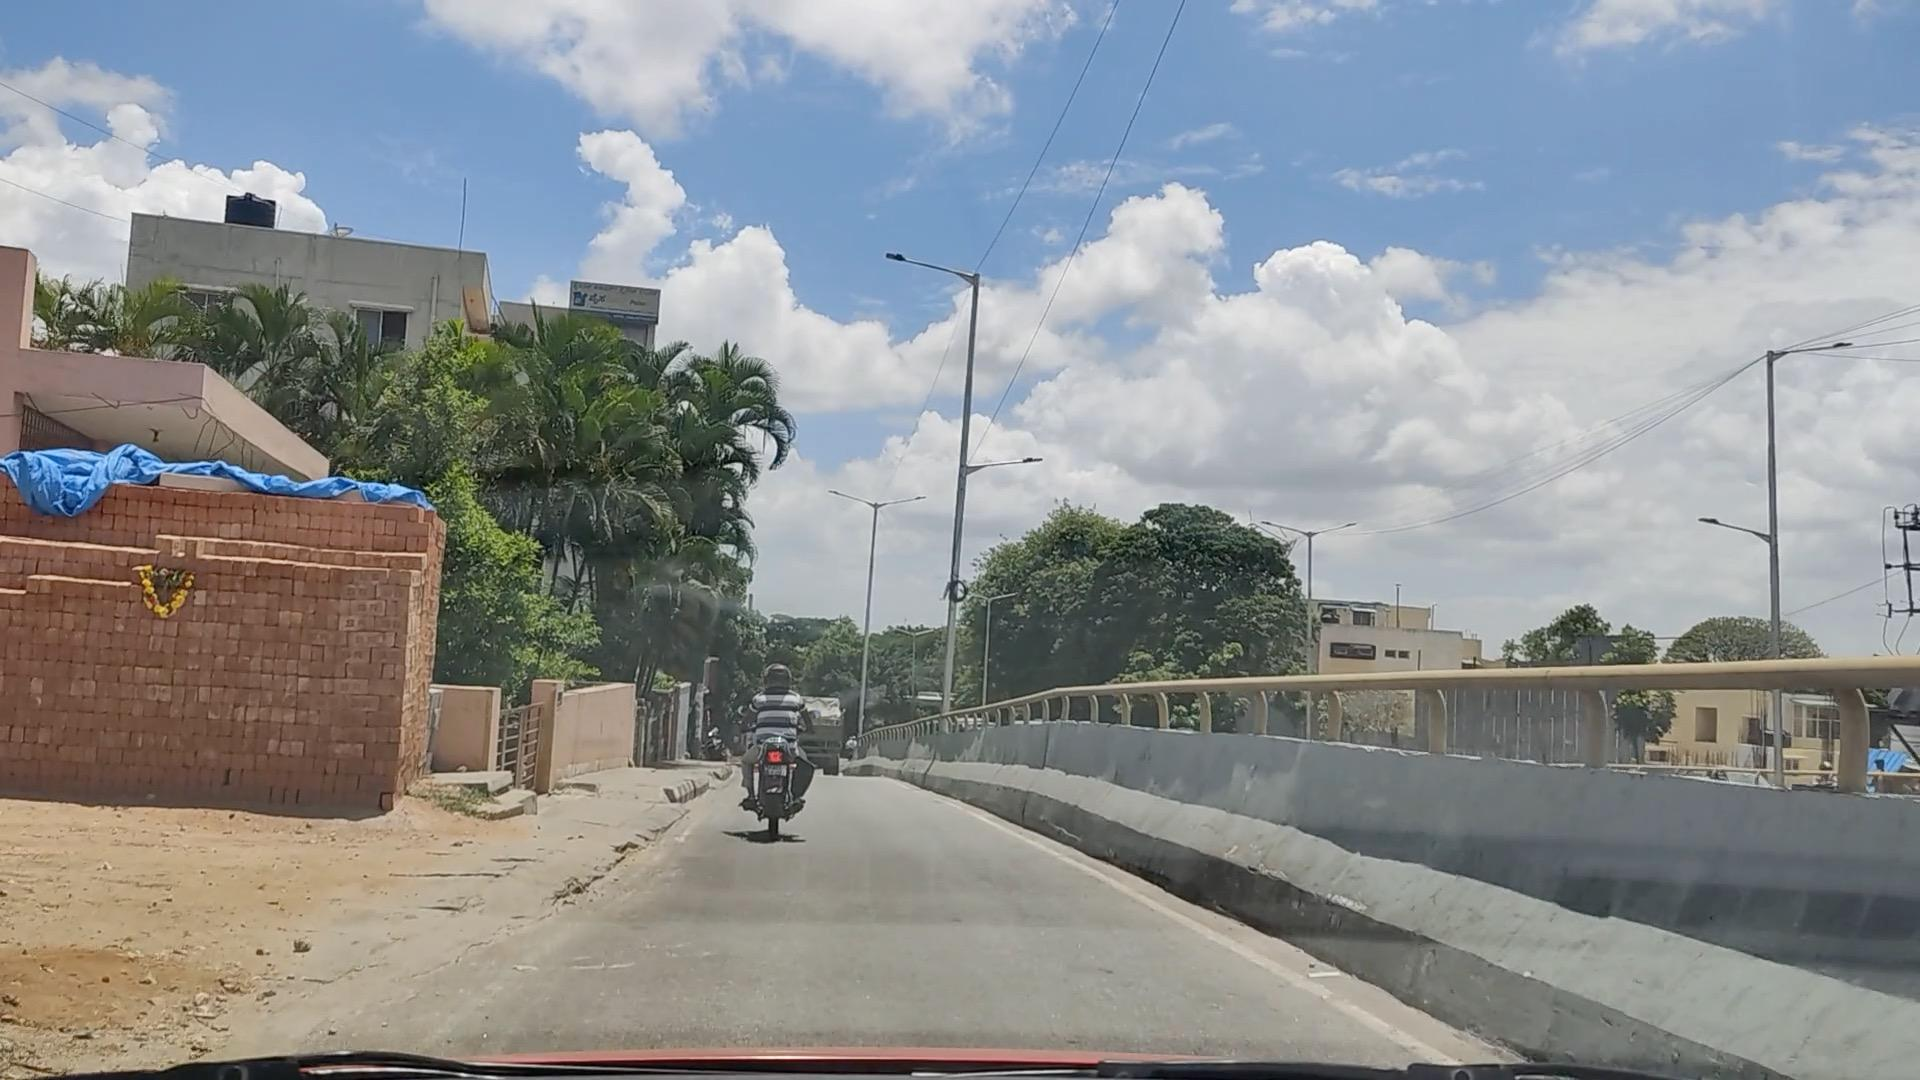LMV: (733, 653, 828, 831)
